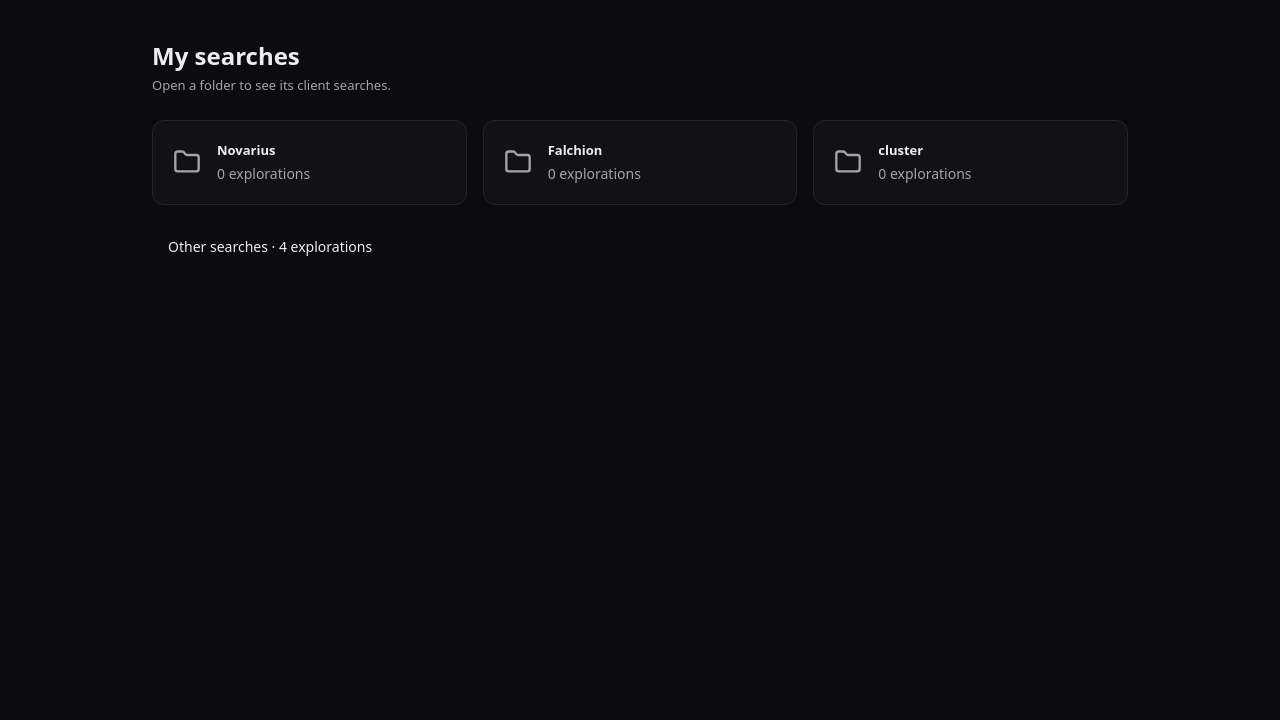
Scenario: My searches › repeats a search by opening the form filled with it
The image size is (1280, 720).
Step 1. Click the button "Other searches · 4 explorations" → {"x": 270, "y": 247}, box 152,229 -> 388,265
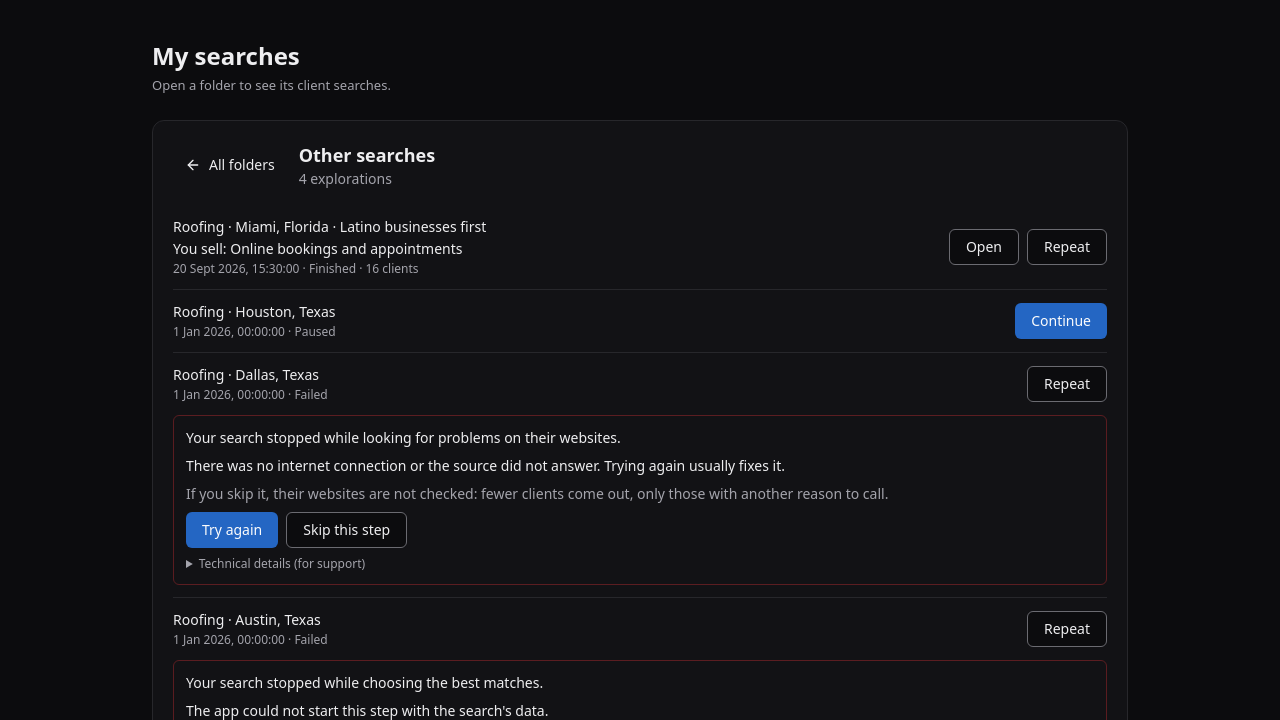
Step 2. Click the 1st button "Repeat" → {"x": 1067, "y": 246}, box 1027,228 -> 1107,264
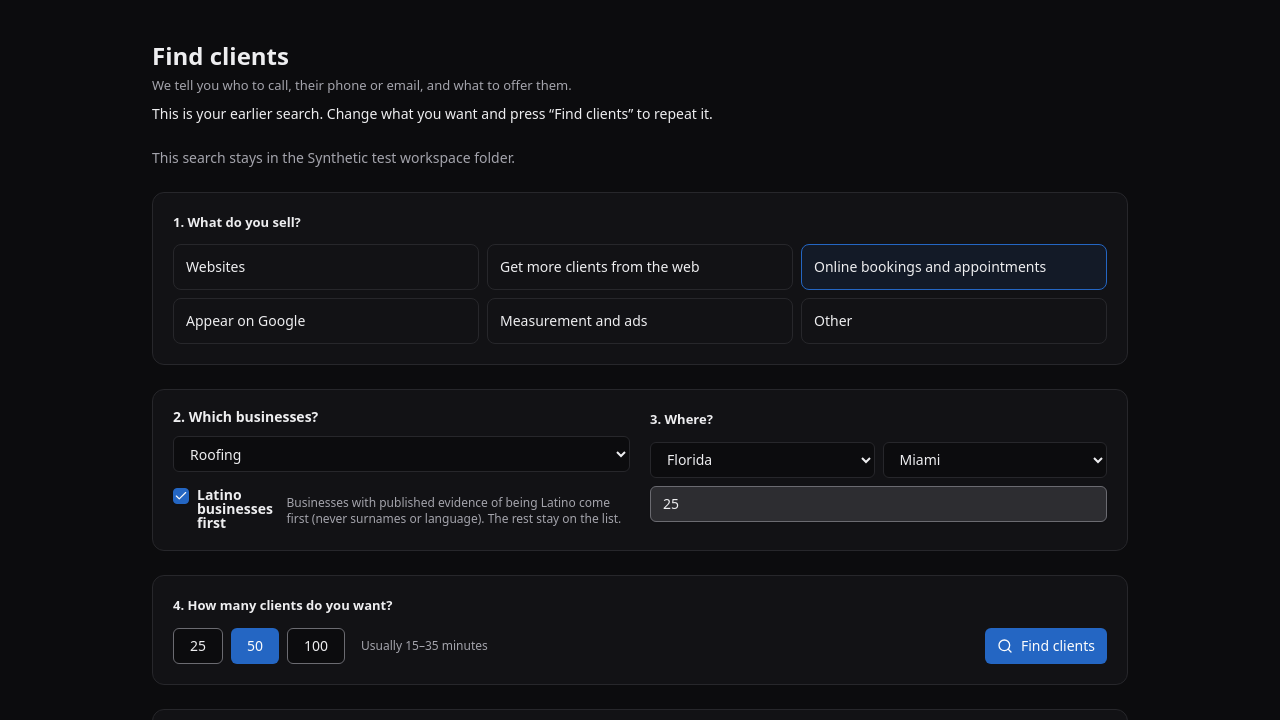
Expected: the text "This is your earlier search" is shown, 152,104 -> 713,122
Expected: the text "This search stays in the Synthetic test workspace folder." is shown, 152,148 -> 515,166
Expected: the 1st dropdown named "State" shows "Florida", 650,442 -> 874,478
